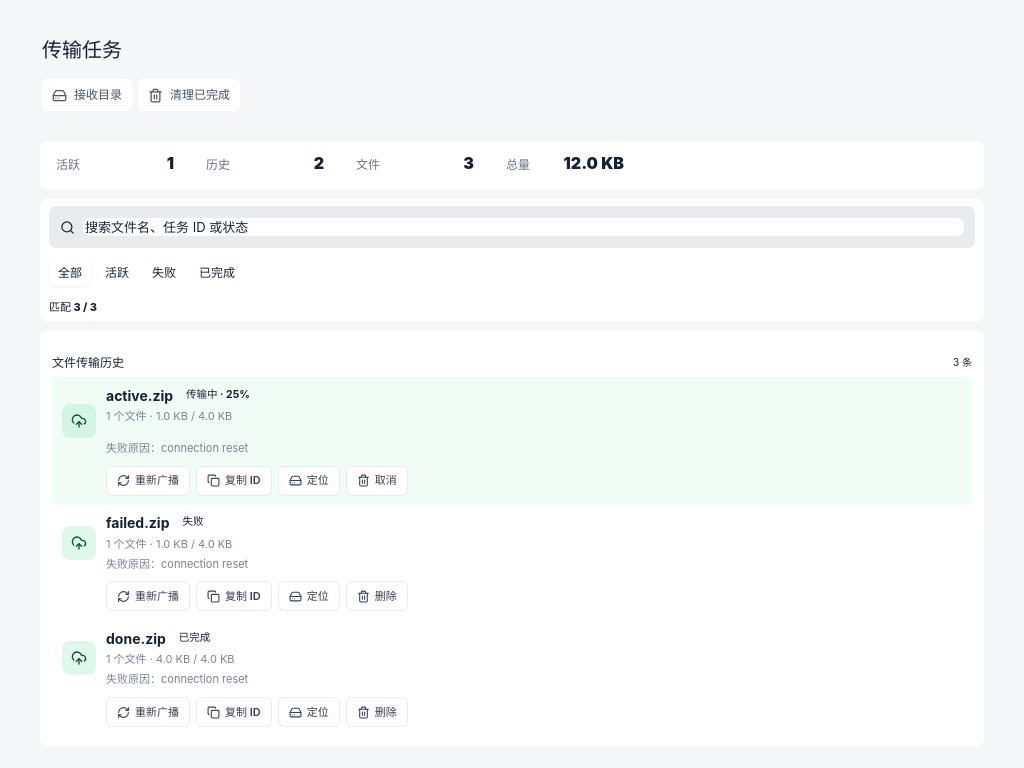
it: WorkspacePanel transfers › filters transfer tasks by failed status
What coordinates should you click on to do the following:
click the tab "失败"
I would click on:
 (164, 271)
Its box is [143, 256, 185, 286].
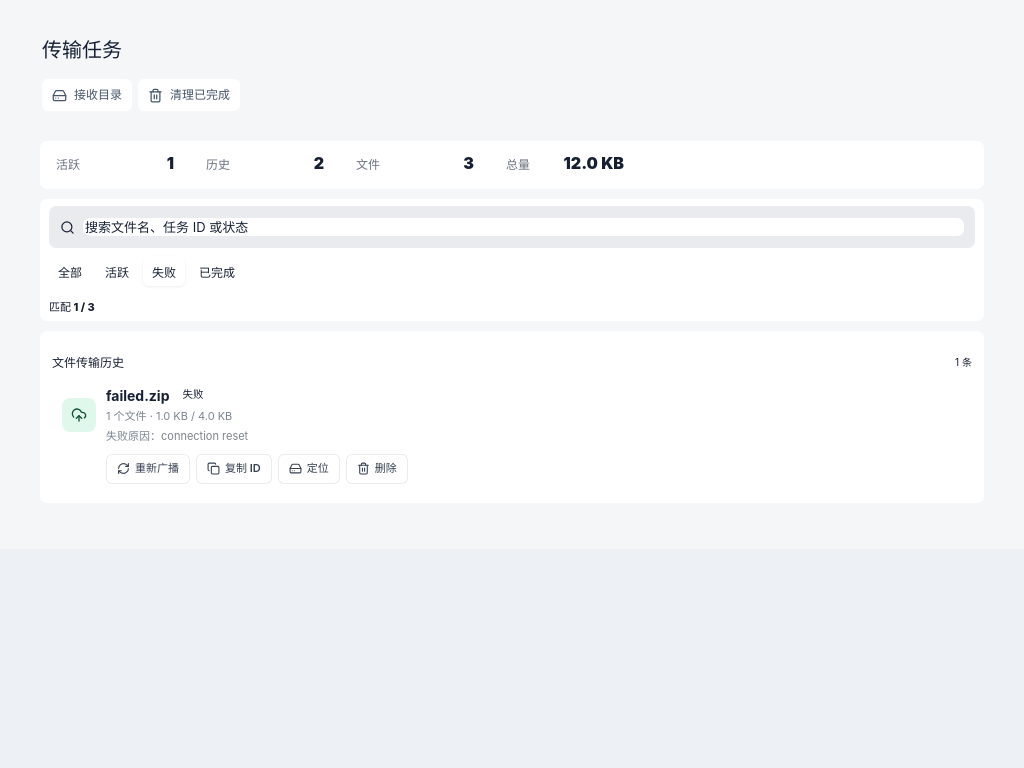
Expected: the text "failed.zip" is shown, [106, 386, 170, 404]
Expected: the text "active.zip" is gone
Expected: the text "done.zip" is gone
